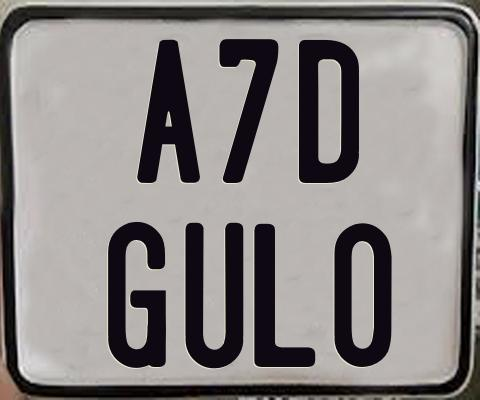0: (331, 222, 393, 371)
7: (218, 38, 283, 188)
A: (135, 37, 198, 184)
D: (297, 40, 361, 187)
G: (105, 219, 163, 365)
L: (252, 223, 313, 368)
U: (183, 220, 242, 367)
